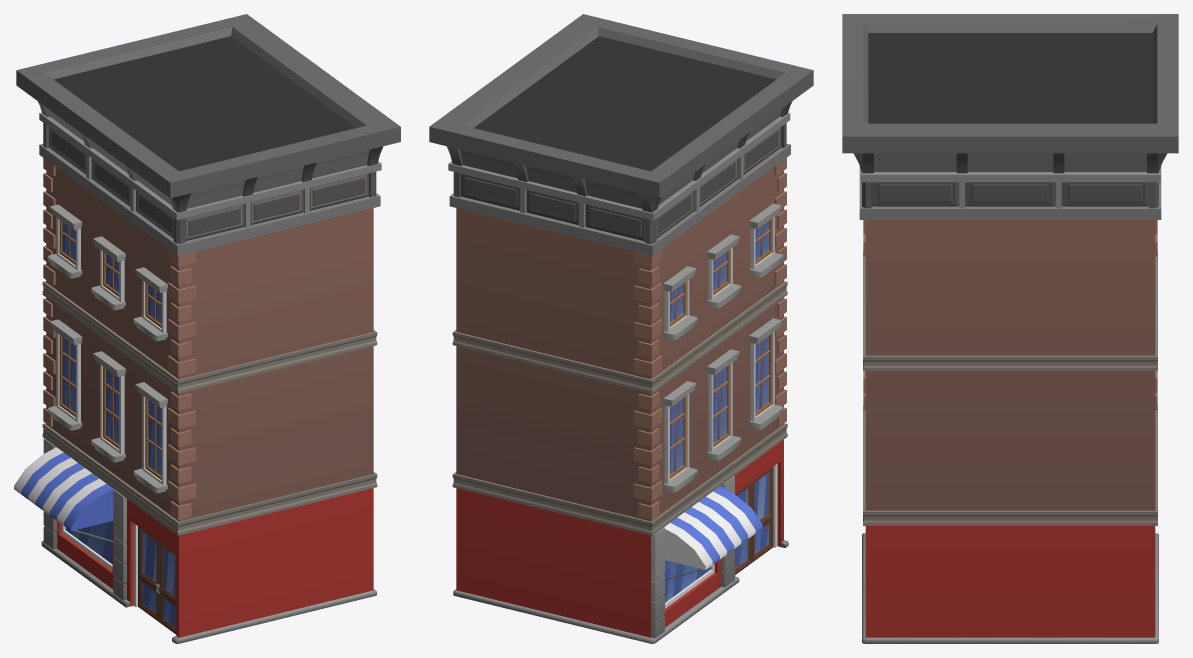
Rendered from Building_8_2_T.fbx.
3 renders of one model, left to right at view 1: azimuth 30°, elevation 25°; view 2: azimuth 150°, elevation 25°; view 3: azimuth 270°, elevation 25°, orthographic. The views are drawn at different scales.
Visible parts, largest first — view 1: Building 8_2_T; view 2: Building 8_2_T; view 3: Building 8_2_T.
Part boxes in pixels (x1=…): Building 8_2_T: x1=14, y1=14, x2=400, y2=643; Building 8_2_T: x1=429, y1=14, x2=813, y2=643; Building 8_2_T: x1=842, y1=14, x2=1178, y2=643.
Bounding box in the file's own units: 720 × 1276 × 755.
